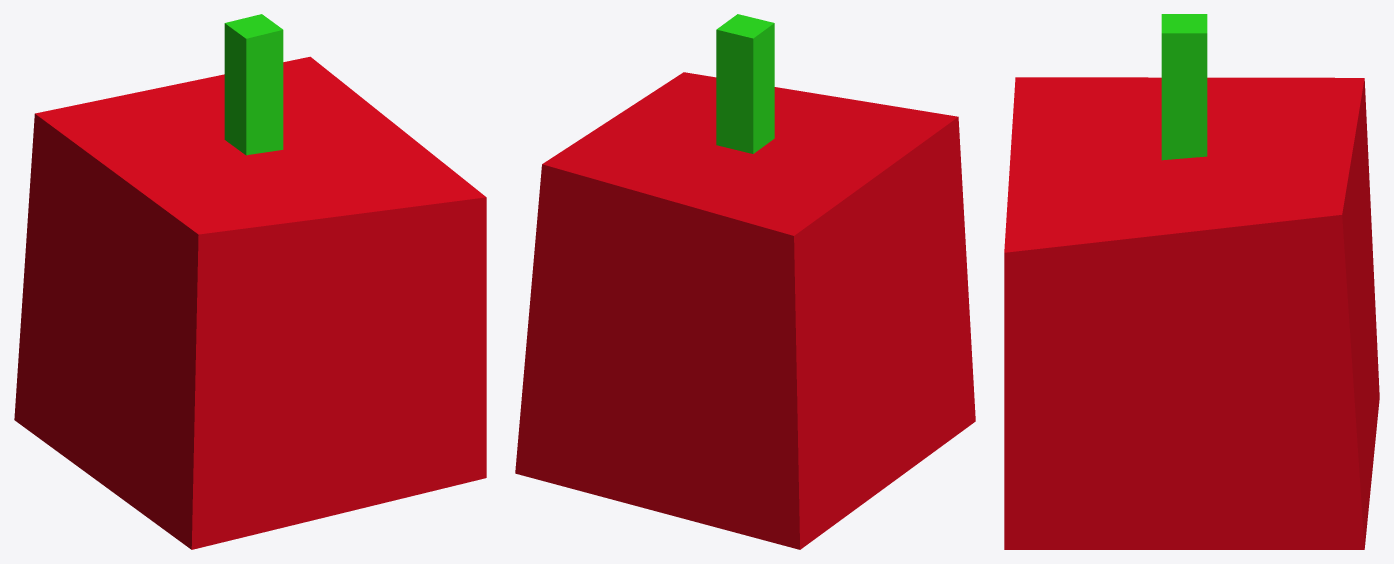
Rendered from Apple.fbx.
3 renders of one model, left to right at view 1: azimuth 30°, elevation 25°; view 2: azimuth 150°, elevation 25°; view 3: azimuth 270°, elevation 25°, orthographic. The views are drawn at different scales.
Parts seen in each view (by area): view 1: Cube; view 2: Cube; view 3: Cube.
Part boxes in pixels (x1,y1,x2,y2): Cube: [14, 14, 486, 549]; Cube: [515, 14, 975, 549]; Cube: [1004, 14, 1379, 549].
Size of the model in its own units: 200 by 276 by 208.
